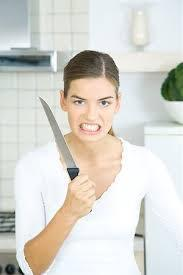Knife: (39, 94, 81, 179)
